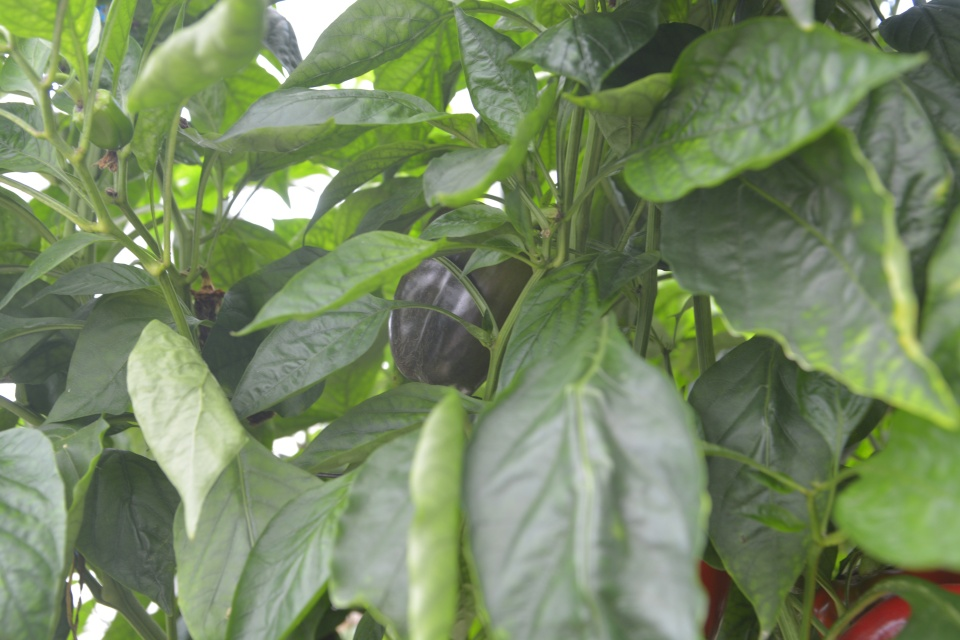fruit: (387, 242, 532, 396), (811, 570, 960, 639)
immature: (72, 85, 135, 172)
